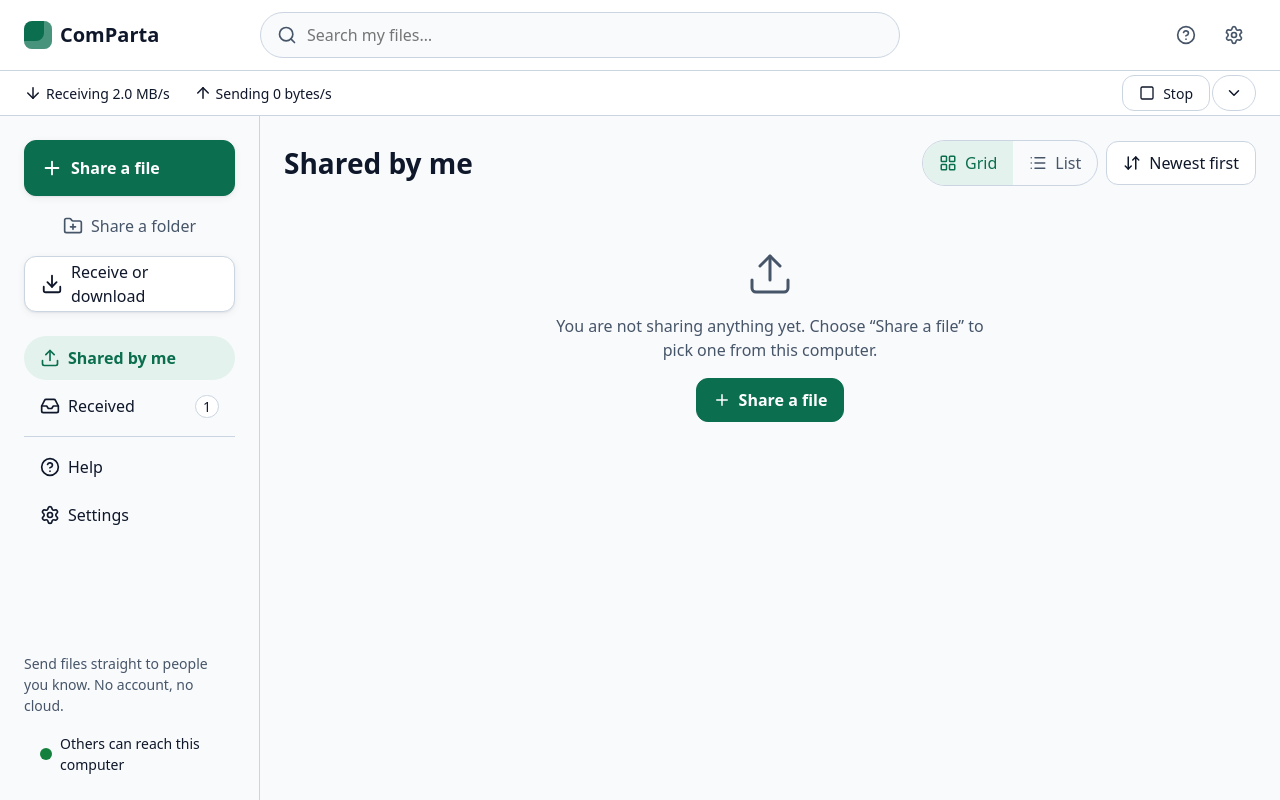
Test: each file's own speed and pause or play button › pauses and continues a download from its card
Click the button "Received 1" at (130, 406), box [24,384,235,428]
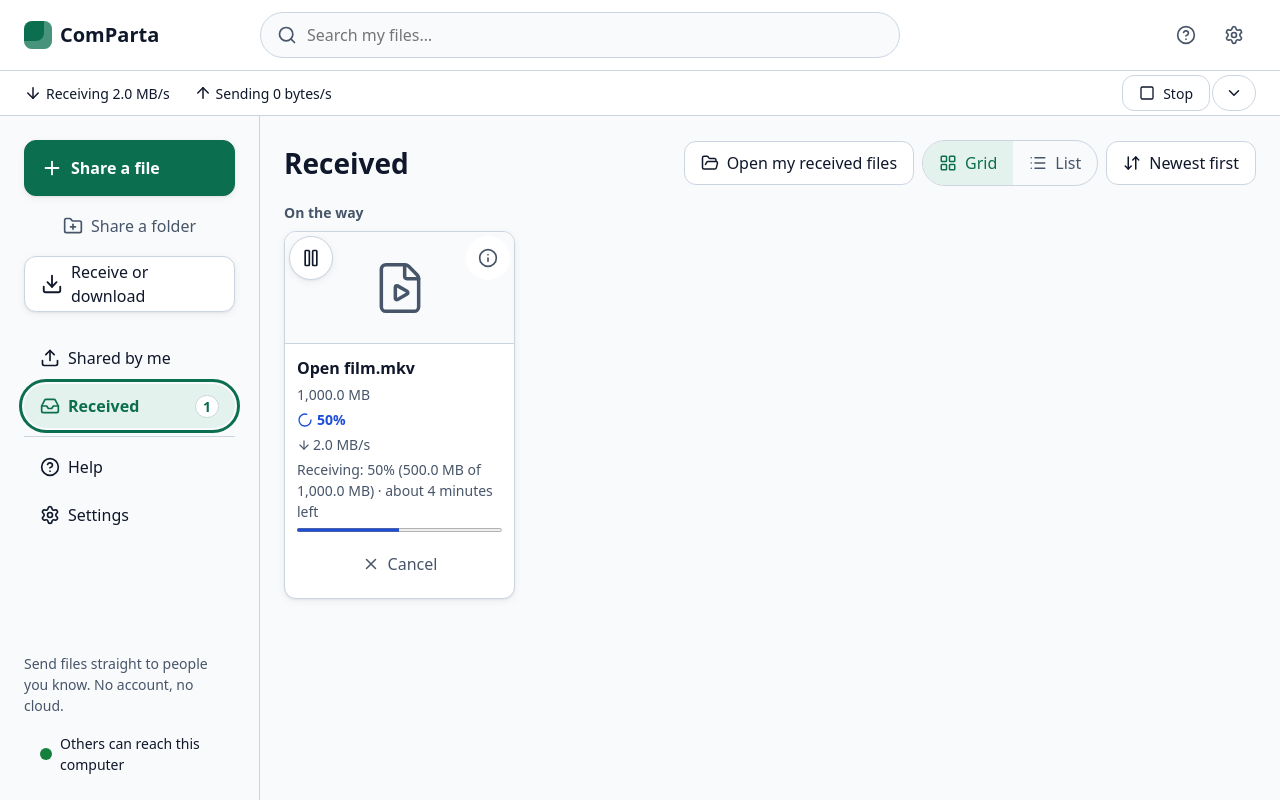
Click the button named "Pause Open film.mkv" at (311, 258), box [289,236,333,280]
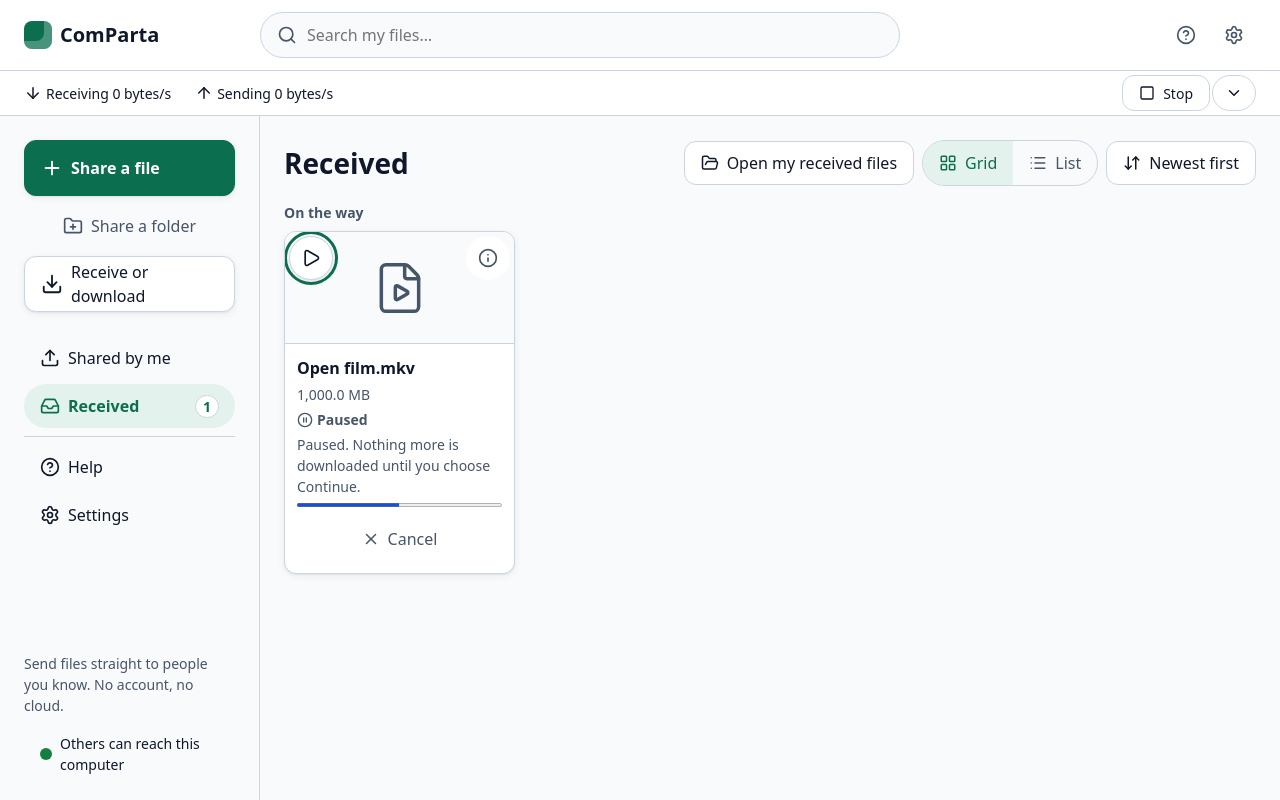
Check: the text "Paused" is shown, box [297,409,368,430]
Click the button named "Continue Open film.mkv" at (311, 258), box [289,236,333,280]
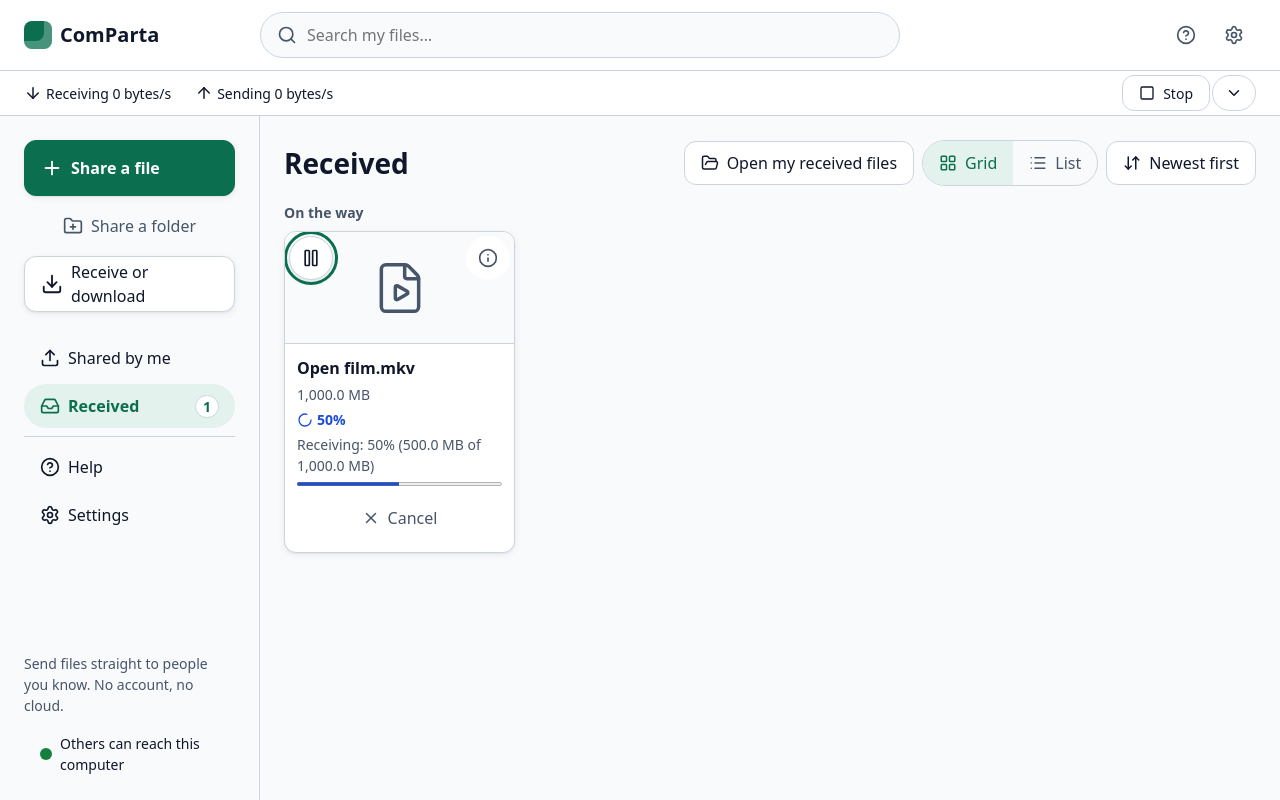
Check: the button named "Pause Open film.mkv" is shown, box [289,236,333,280]
